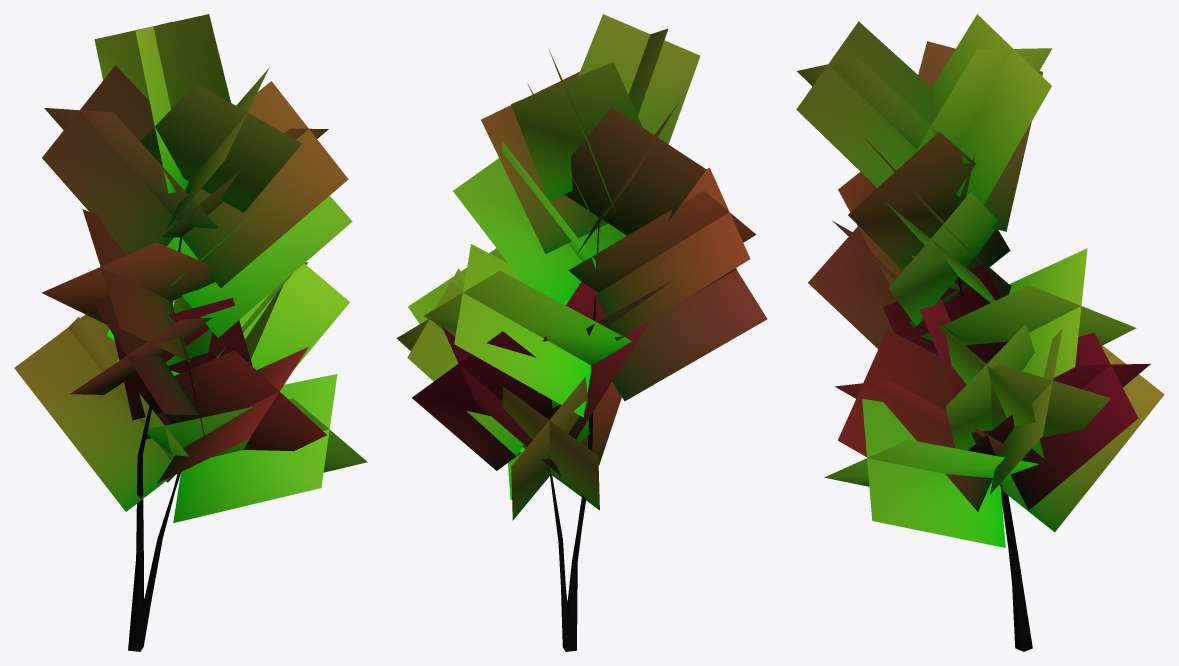
Rendered from SuperTree_11.fbx.
The picture shows the model from 3 angles, left to right: view 1: azimuth 30°, elevation 25°; view 2: azimuth 150°, elevation 25°; view 3: azimuth 270°, elevation 25°; orthographic projection. The views are drawn at different scales.
Visible parts, largest first — view 1: SuperTree_11; view 2: SuperTree_11; view 3: SuperTree_11.
Part boxes in pixels (box(x1,y1,x2,y2)): SuperTree_11: box(14, 14, 367, 651); SuperTree_11: box(396, 14, 767, 651); SuperTree_11: box(796, 14, 1164, 651).
Bounding box in the file's own units: 525 × 972 × 521.
